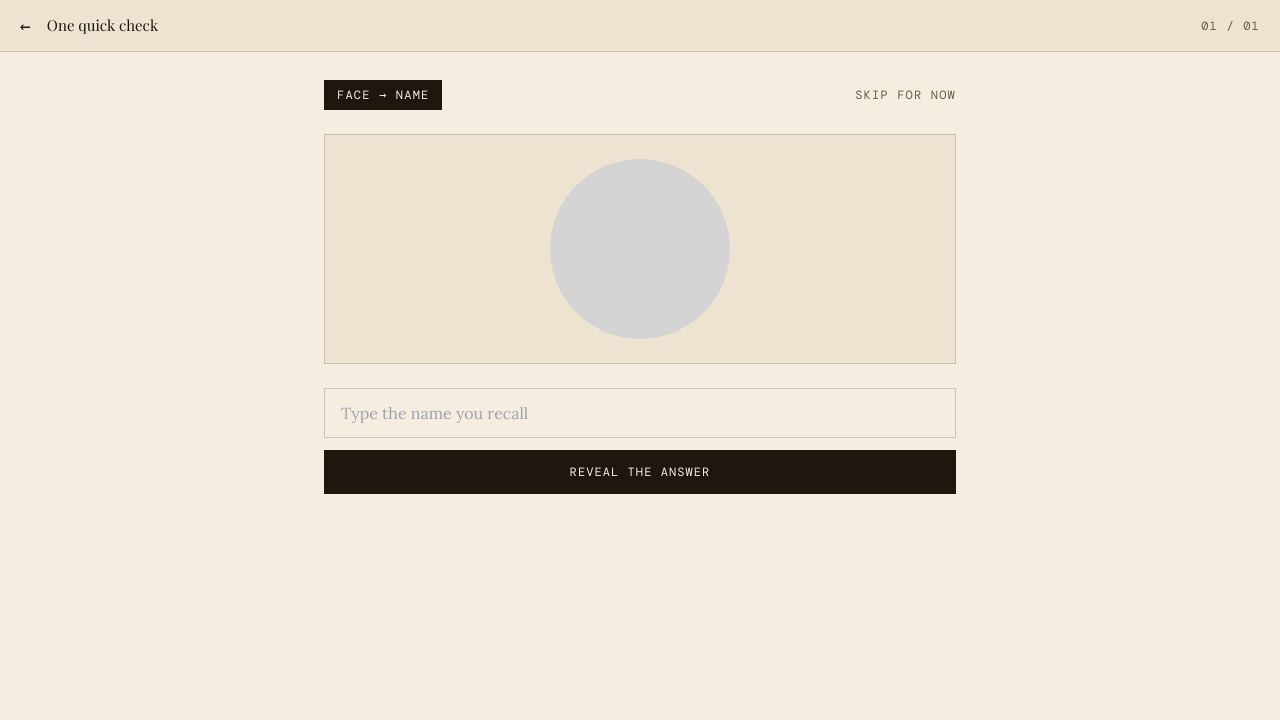
Test case: QuizComponent › the immediate post-add prompt › uses the same reveal and rating flow as a full session
Click the button "Reveal the answer".
click(640, 472)  # box [324,450,956,494]
(page scrolled)
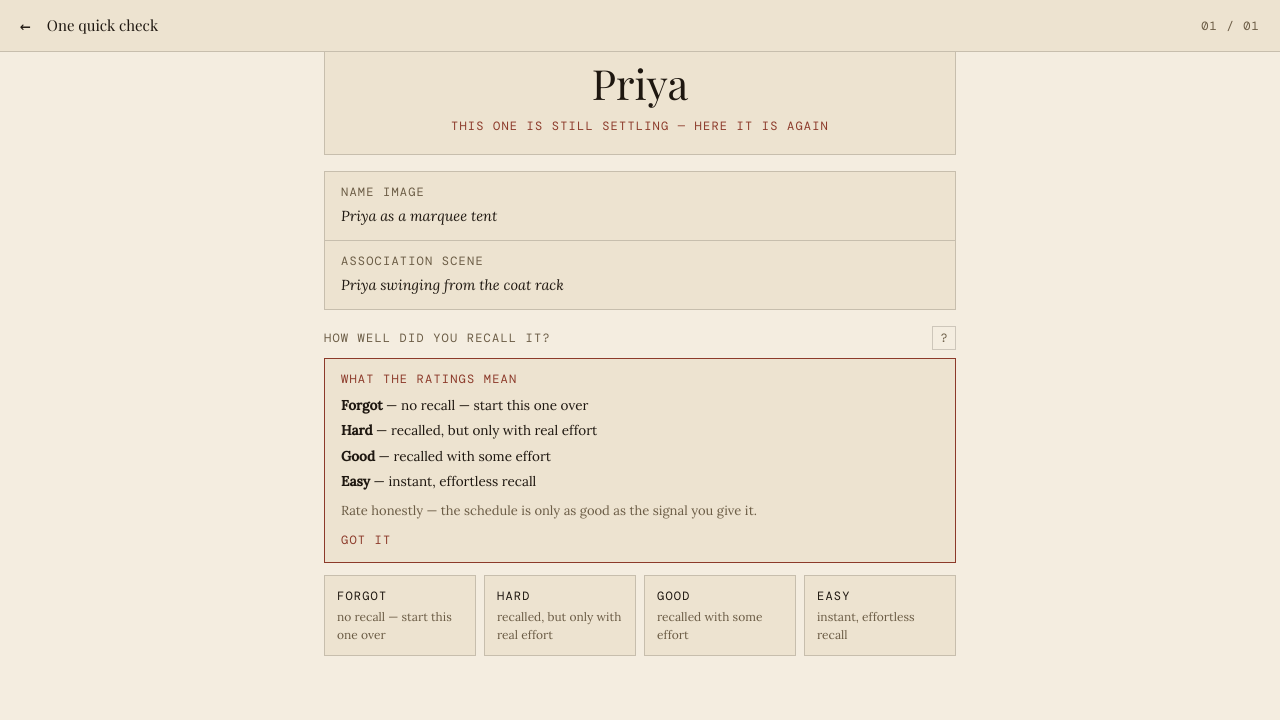
Expected: the text "Priya" is shown, [592,55,688,110]
